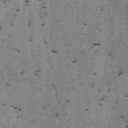oxide scale of temperature system: (10, 42, 128, 128), (10, 0, 58, 54), (20, 70, 40, 76), (72, 58, 78, 64), (82, 21, 88, 26)
